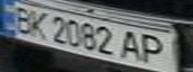0: (63, 18, 84, 48)
2: (93, 24, 118, 57), (45, 13, 69, 46)
8: (78, 20, 100, 53)
A: (115, 28, 148, 63)
B: (6, 3, 39, 35)
K: (24, 9, 51, 39)
P: (136, 32, 175, 65)
